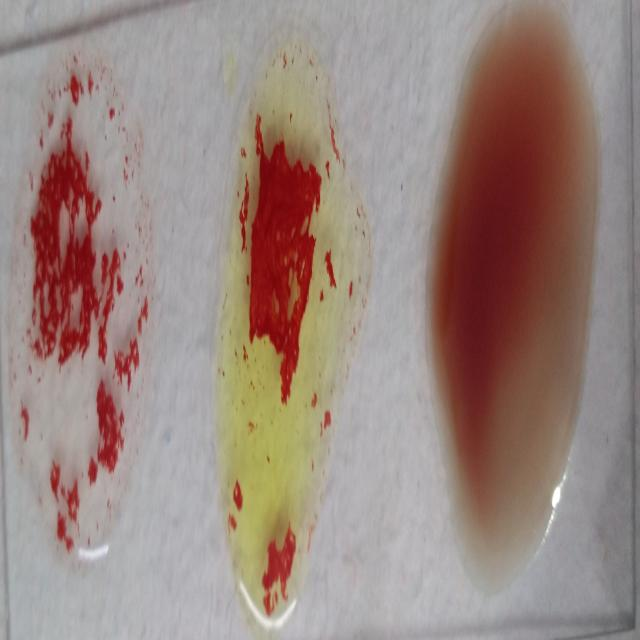B: (222, 51, 352, 632)
D: (9, 61, 154, 585)
